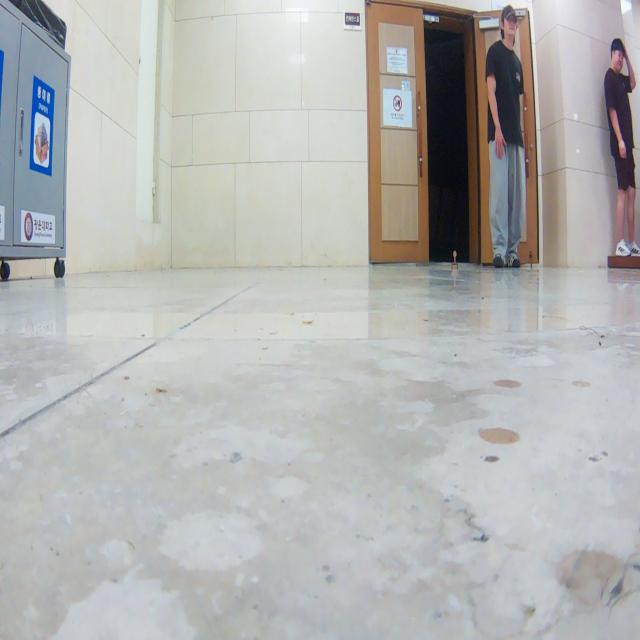target: (452, 250, 458, 270)
